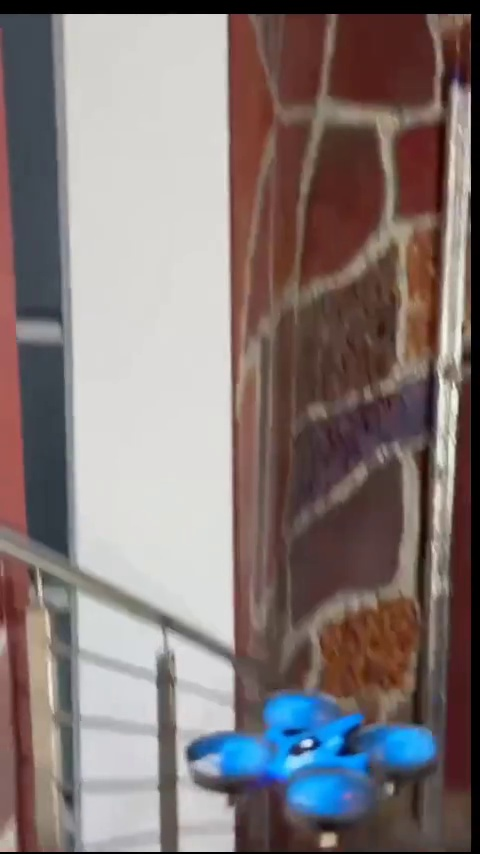drone: (188, 686, 451, 821)
